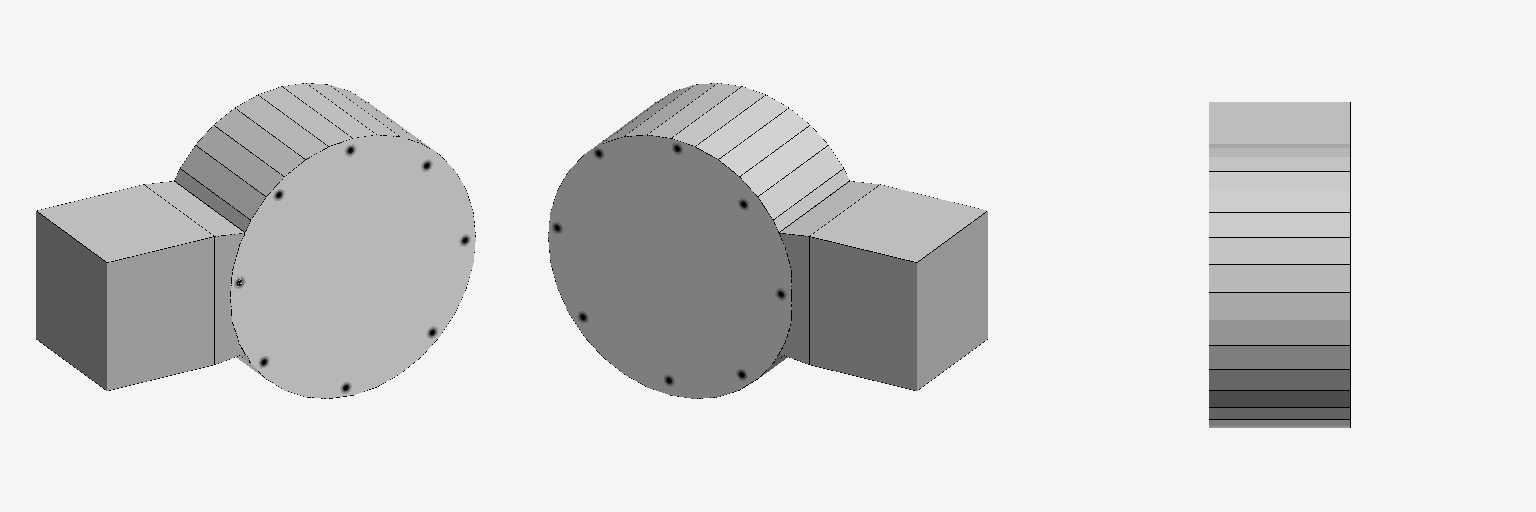
3 views of the same model, side by side, from view 1: azimuth 30°, elevation 25°; view 2: azimuth 150°, elevation 25°; view 3: azimuth 270°, elevation 25° (orthographic).
Visible parts, largest first — view 1: wall_clock_ang_Cylinder.001; view 2: wall_clock_ang_Cylinder.001; view 3: wall_clock_ang_Cylinder.001.
Boxes of the visible parts, x1,y1,x2,y2 form: wall_clock_ang_Cylinder.001: [36, 83, 475, 398]; wall_clock_ang_Cylinder.001: [548, 83, 987, 398]; wall_clock_ang_Cylinder.001: [1209, 102, 1350, 427].
Size of the model in its own units: 3 by 2 by 1.
1 materials, 1 textured.